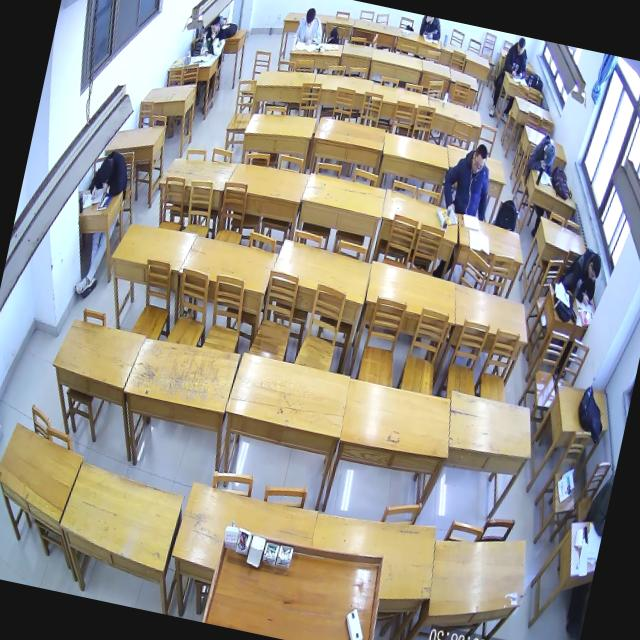bow: (86, 147, 133, 206)
down: (468, 142, 488, 176), (586, 253, 604, 282), (98, 157, 114, 184), (542, 143, 558, 167), (303, 6, 316, 28), (208, 14, 220, 34), (514, 36, 526, 56)
sit: (437, 138, 499, 220), (560, 244, 604, 306), (198, 13, 230, 61), (524, 130, 558, 174), (500, 34, 532, 79), (293, 6, 327, 48)
